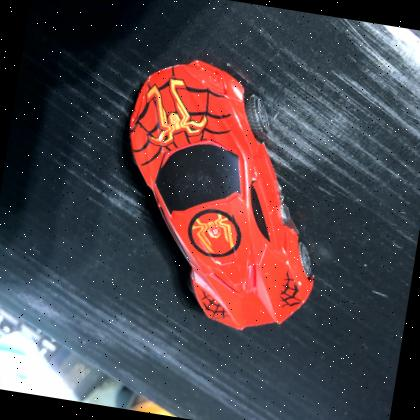Car: (94, 46, 352, 346)
